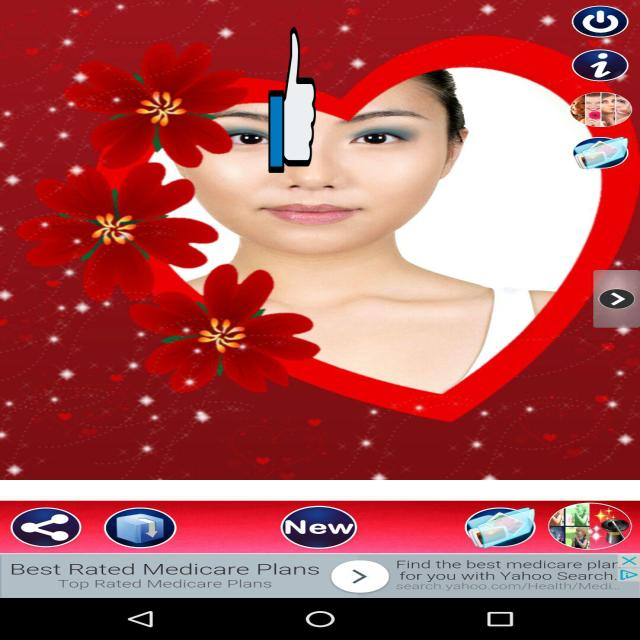privacy zuckering: (268, 24, 316, 176)
